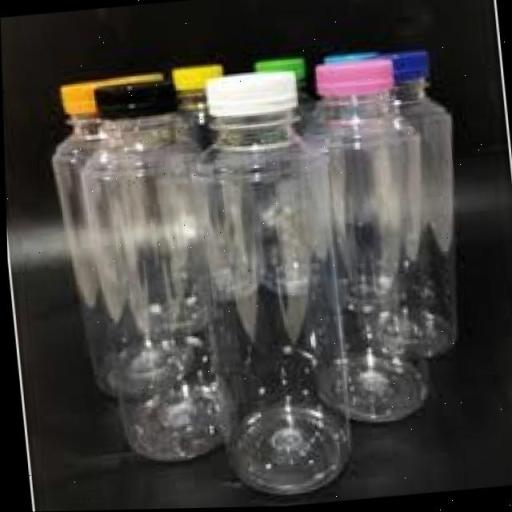plastic: (183, 70, 363, 497), (31, 70, 223, 468), (306, 51, 453, 465), (368, 35, 467, 382)
